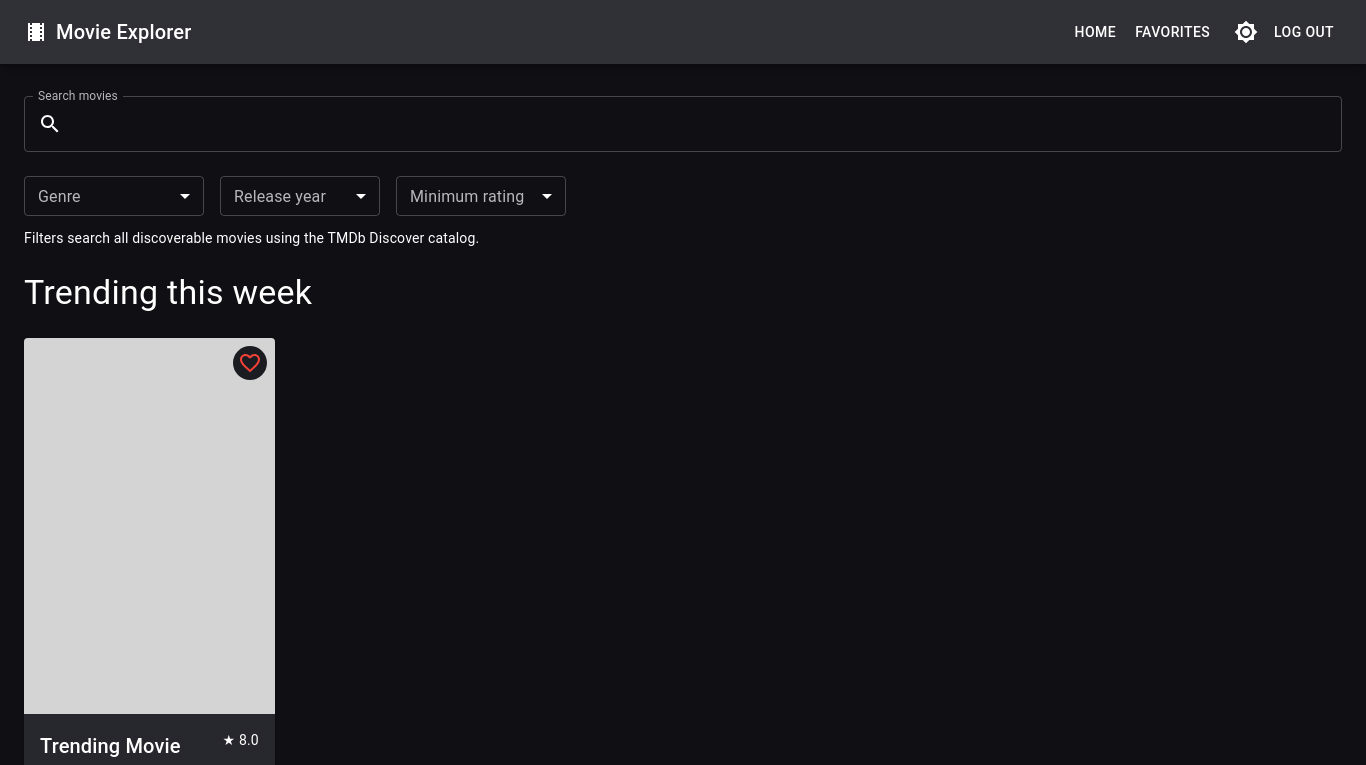
it: authentication › restores a session and logout clears it
Expected: the heading "Trending Movie" is shown, [40, 730, 181, 762]
Click the button "Log out" at (1304, 32), box [1266, 14, 1342, 50]
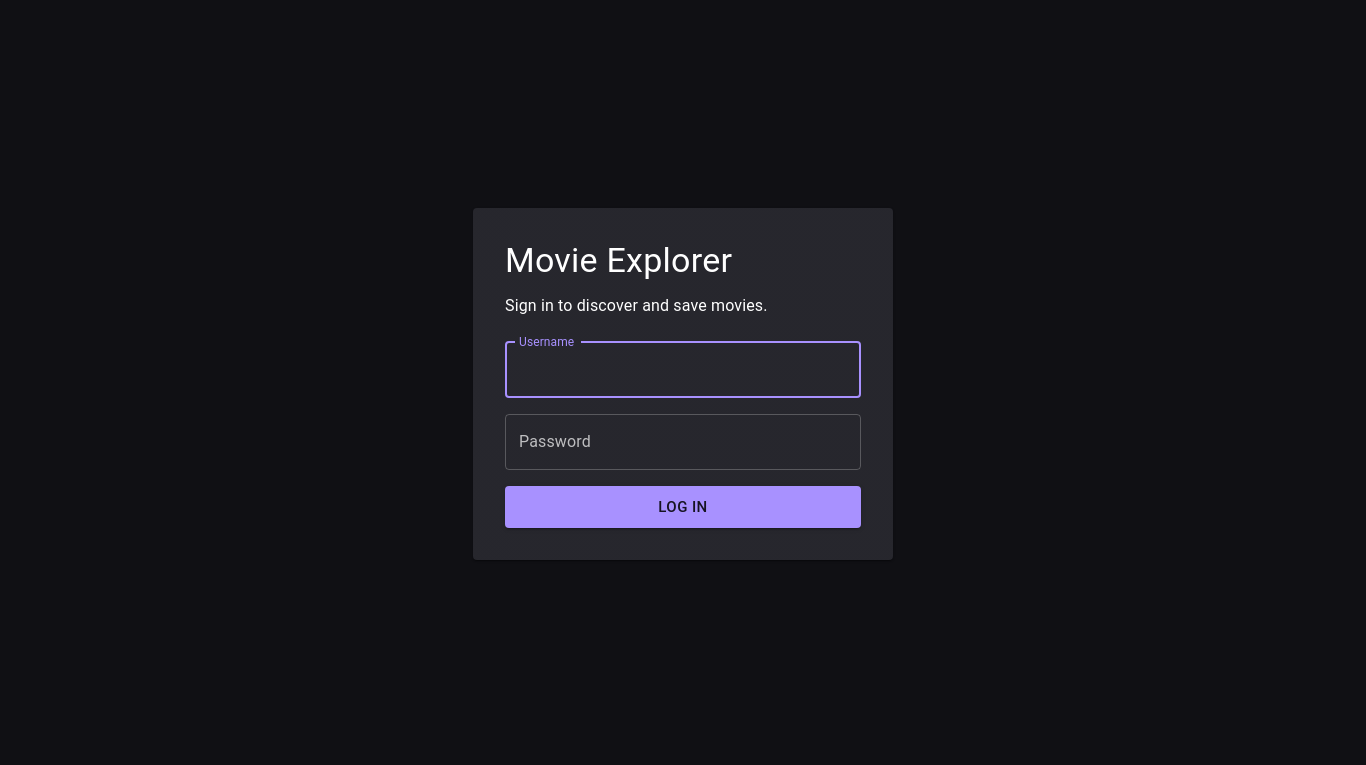
Now the button "Log in" is shown, box [505, 486, 861, 528]
